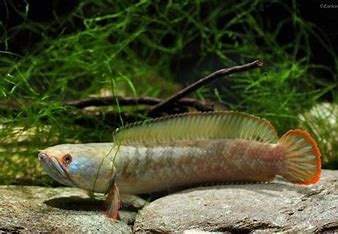Fish: (24, 108, 331, 224)
